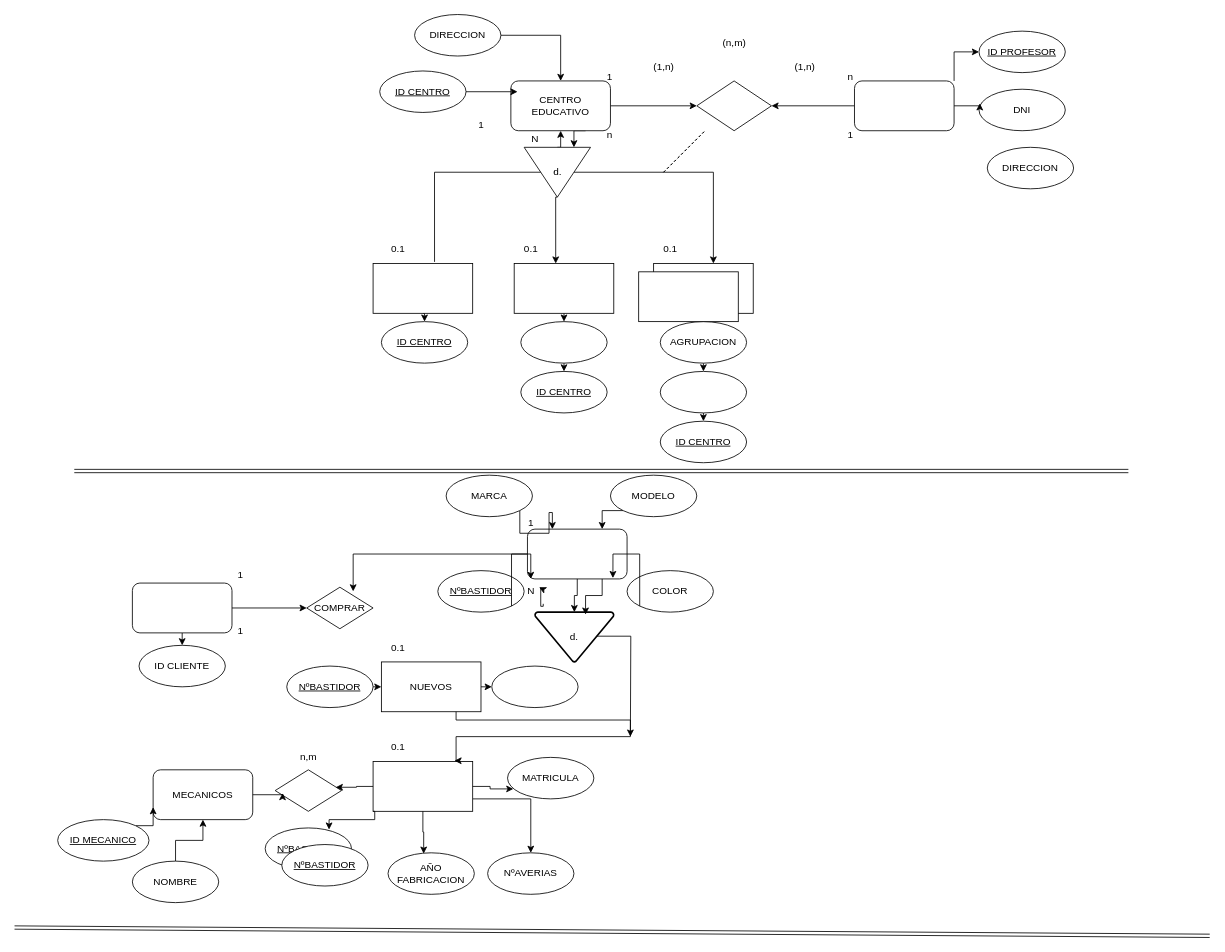
This 1225x952 diagram has some shape labels left out. The shapes that lost their labels are listed below. From the top down, each one's centre as x and y in pixels, then its label:
At point (733, 105): "TRABAJAN".
At point (904, 105): "PROFESOR".
At point (422, 288): "PUBLICOS".
At point (563, 288): "PRIVADOS".
At point (563, 342): "CUOTA".
At point (703, 392): "COMISION".
At point (577, 553): "COCHES".
At point (182, 607): "CLIENTES".
At point (534, 686): "UNIDADES".
At point (308, 790): "REPARAR".
At point (422, 786): "2ªMANO".
